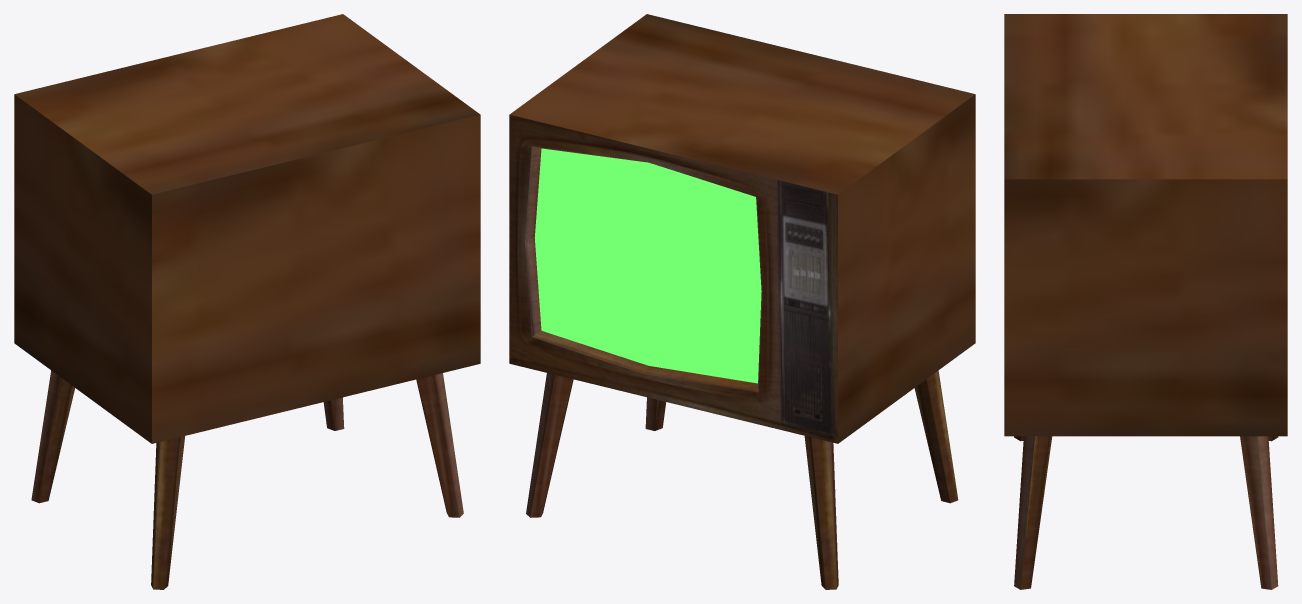
3 views of the same model, side by side, from view 1: azimuth 30°, elevation 25°; view 2: azimuth 150°, elevation 25°; view 3: azimuth 270°, elevation 25° (orthographic). The views are drawn at different scales.
Parts seen in each view (by area): view 1: TV; view 2: TV; view 3: TV.
Boxes of the visible parts, left/top/right/bottom form: TV: left=14, top=14, right=480, bottom=589; TV: left=509, top=14, right=975, bottom=589; TV: left=1004, top=14, right=1287, bottom=589.
Size of the model in its own units: 0.7809 by 0.9142 by 0.5657.
Materials: 2 (1 with a texture image).
